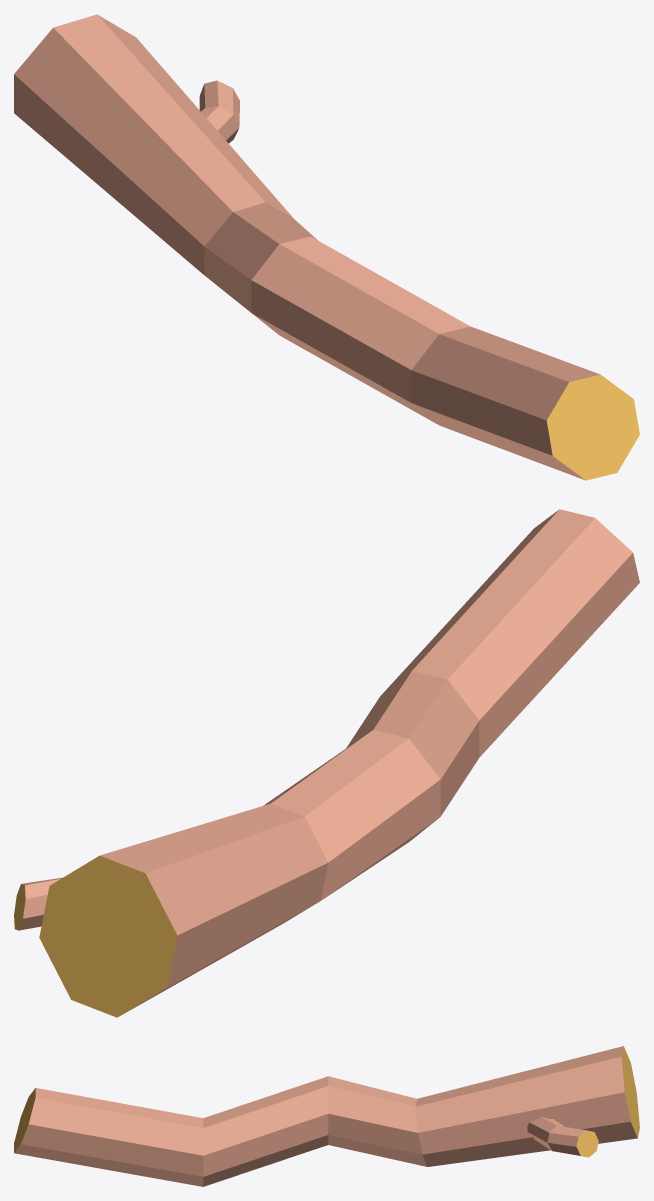
File: Branch.glb
3 views of the same model, one above another, from view 1: azimuth 30°, elevation 25°; view 2: azimuth 150°, elevation 25°; view 3: azimuth 270°, elevation 25° (orthographic). The views are drawn at different scales.
Visible parts, largest first — view 1: Branch; view 2: Branch; view 3: Branch.
Part boxes in pixels (bbox=[...]): Branch: bbox=[14, 14, 639, 480]; Branch: bbox=[14, 509, 639, 1017]; Branch: bbox=[14, 1046, 639, 1186].
Bounding box in the file's own units: 0.7669 × 0.7102 × 3.51.
